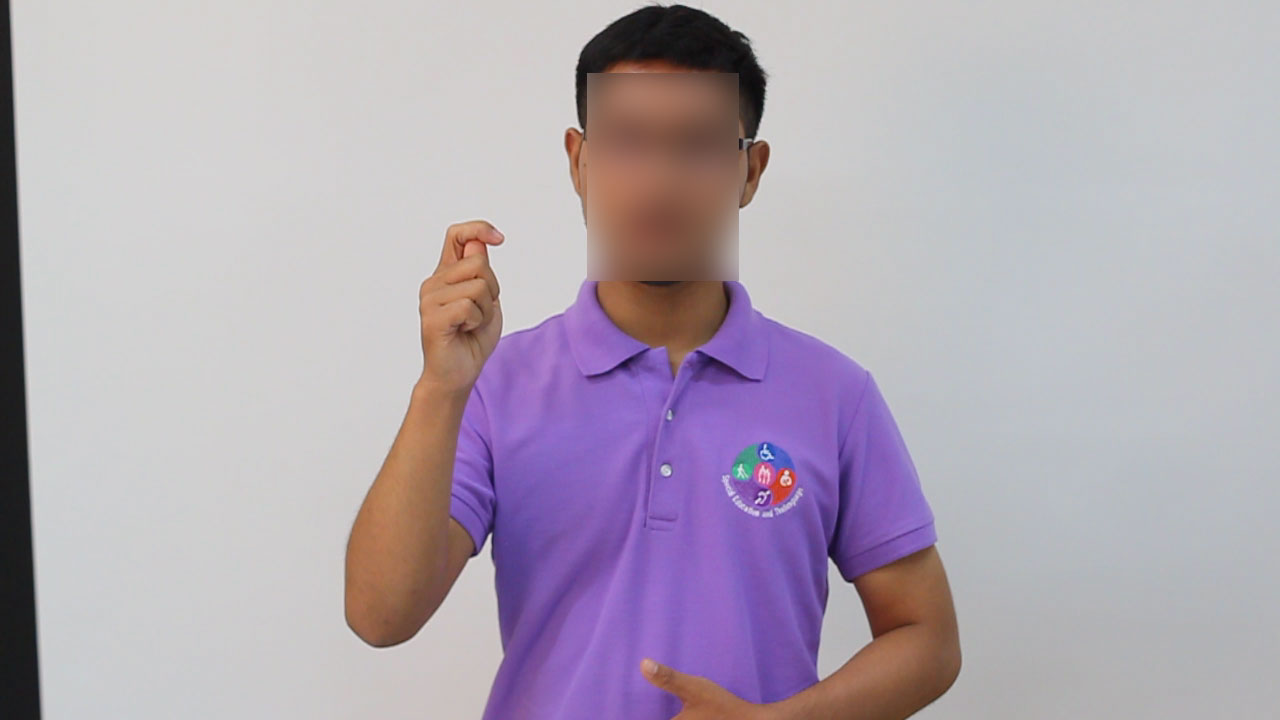or: (403, 213, 513, 406)
